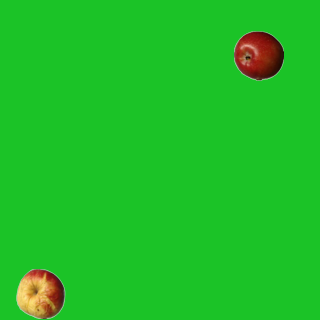Apple Braeburn: (233, 30, 283, 80)
Apple Red Yellow 1: (15, 268, 65, 318)
